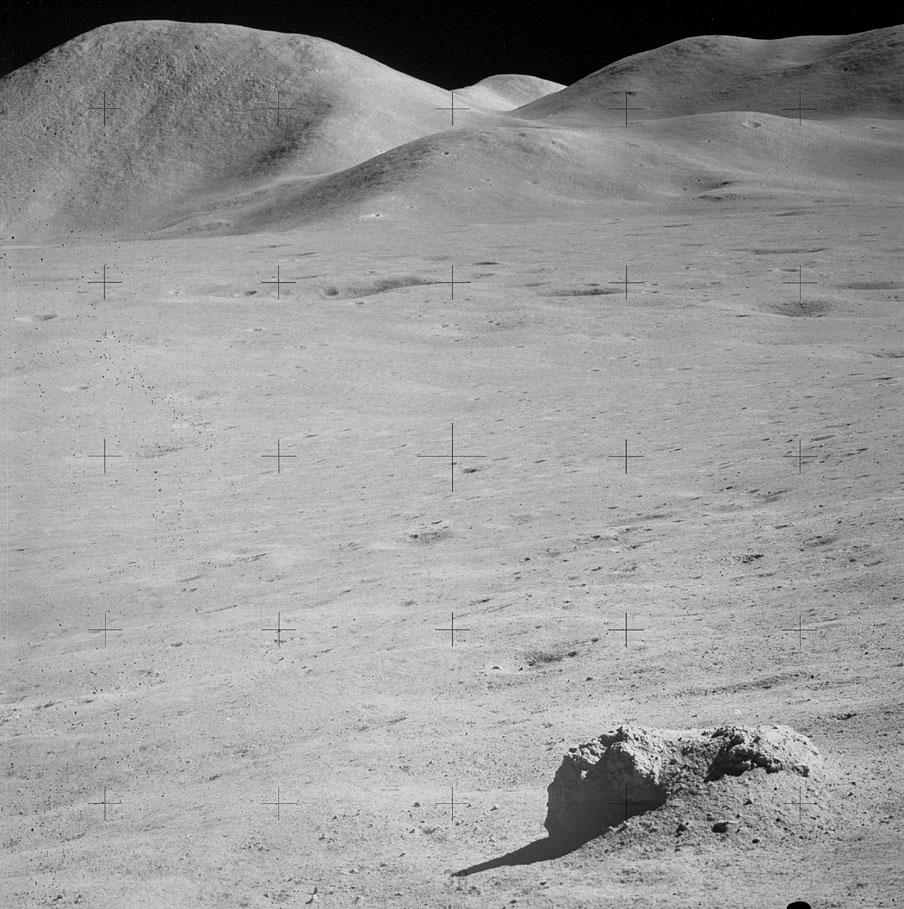rock: (545, 726, 820, 845)
